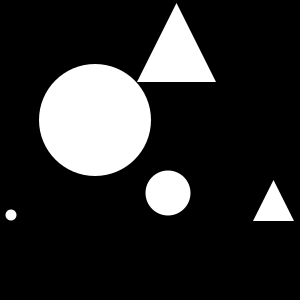rectangle: (39, 64, 151, 176), (146, 170, 190, 215), (6, 210, 16, 220)
triangle: (137, 3, 216, 82), (253, 180, 294, 221)
